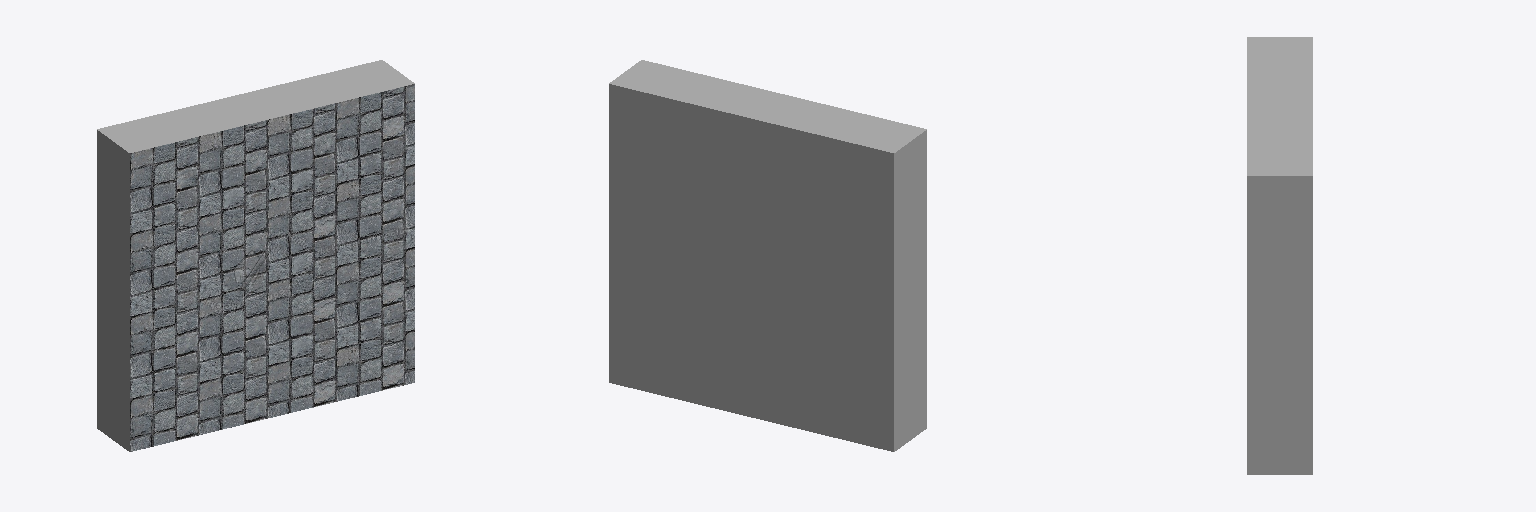
The picture shows the model from 3 angles: view 1: azimuth 30°, elevation 25°; view 2: azimuth 150°, elevation 25°; view 3: azimuth 270°, elevation 25°; orthographic projection.
Parts seen in each view (by area): view 1: Object.1; view 2: Object.1; view 3: Object.1.
Part boxes in pixels (left/top/right/bottom): Object.1: left=97, top=60, right=414, bottom=451; Object.1: left=609, top=60, right=926, bottom=451; Object.1: left=1247, top=37, right=1312, bottom=474.
Bounding box in the file's own units: 1 × 1 × 0.2.
Materials: 2 (1 with a texture image).